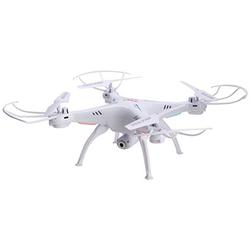drone: (2, 68, 247, 181)
